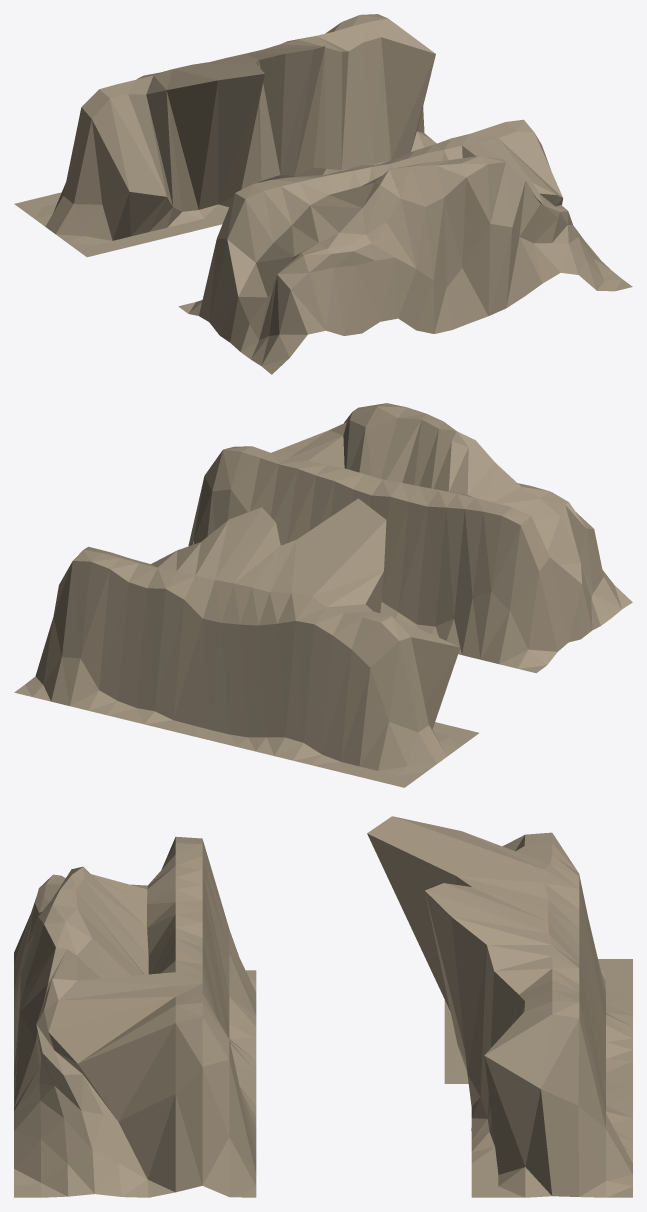
The model's file is roadRock.fbx.
3 renders of one model, top to bottom at view 1: azimuth 30°, elevation 25°; view 2: azimuth 150°, elevation 25°; view 3: azimuth 270°, elevation 25°, orthographic. The views are drawn at different scales.
Visible parts, largest first — view 1: roadRock; view 2: roadRock; view 3: roadRock.
Part boxes in pixels (<box>): roadRock: <box>14,14,632,374</box>; roadRock: <box>14,403,632,787</box>; roadRock: <box>14,816,632,1197</box>.
Size of the model in its own units: 109 by 46.66 by 120.
